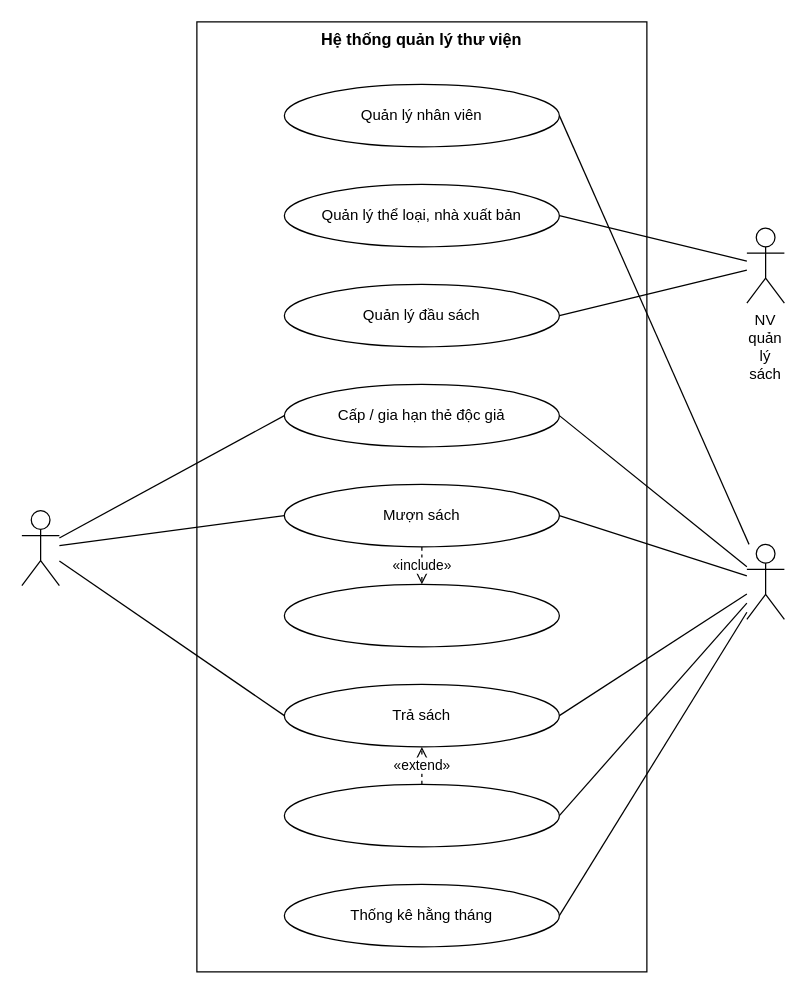
Image size: 806x994. Some labels were removed from this diagram. The centre of each missing label's shape, as x and y in pixels:
Kiểm tra điều kiện mượn: (x=421, y=615)
Lập phiếu phạt: (x=421, y=815)
Thủ thư: (x=765, y=581)
Độc giả: (x=40, y=547)
